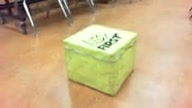cube: (63, 24, 138, 97)
